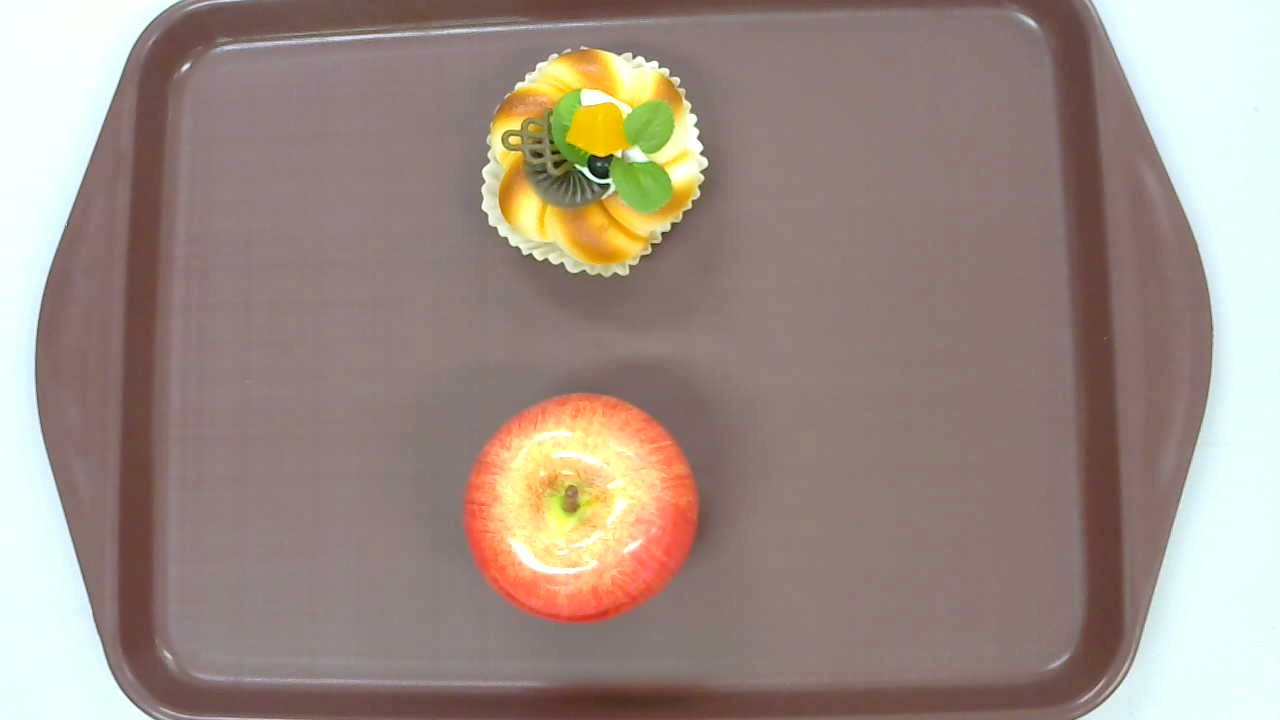fruit tart: (480, 46, 710, 278)
red apple: (462, 391, 700, 623)
